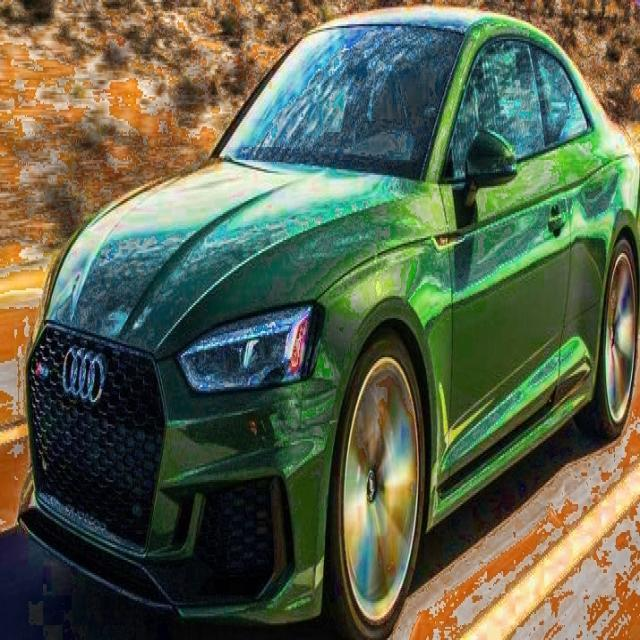green: (27, 13, 640, 640)
